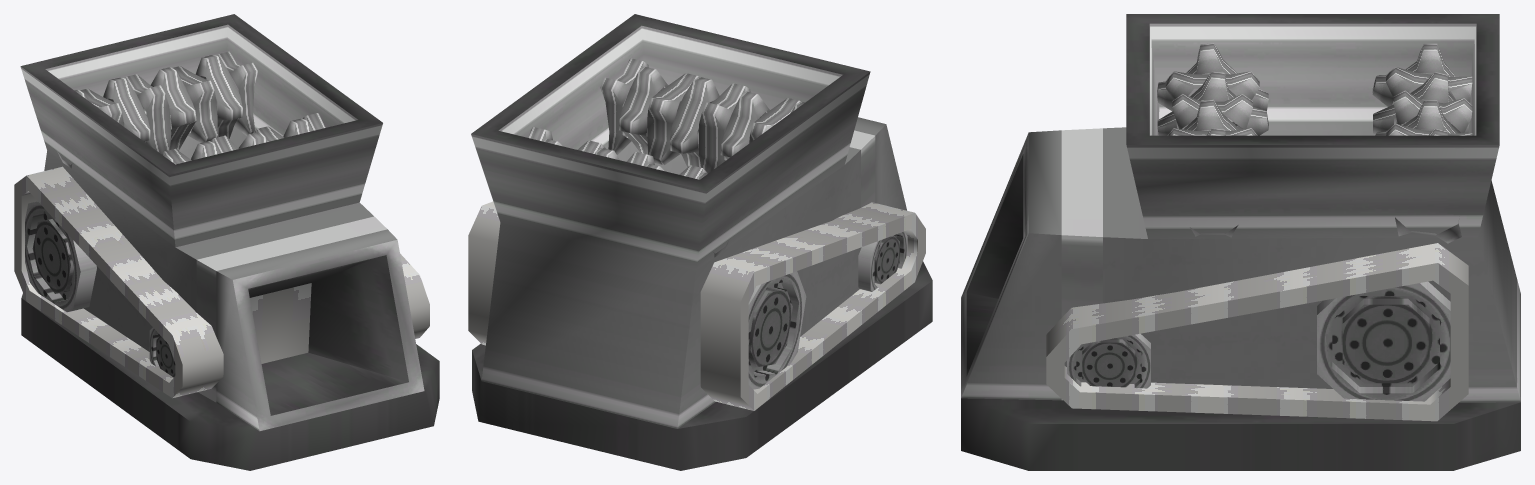
File: StoneGrinderHandHeld.fbx
3 renders of one model, left to right at view 1: azimuth 30°, elevation 25°; view 2: azimuth 150°, elevation 25°; view 3: azimuth 270°, elevation 25°, orthographic. The views are drawn at different scales.
Visible parts, largest first — view 1: StoneGrinder, GrinderBlade1, GinderWheel, GrinderBlade2, GinderWheel (1); view 2: StoneGrinder, GrinderBlade2, GinderWheel, GinderWheel (1), GrinderBlade1; view 3: StoneGrinder, GinderWheel (2), GrinderBlade2, GrinderBlade1, GinderWheel (3).
Boxes of the visible parts, x1,y1,x2,y2 form: StoneGrinder: (14, 14, 439, 470); GrinderBlade1: (57, 51, 257, 168); GinderWheel: (25, 201, 96, 312); GrinderBlade2: (162, 113, 325, 164); GinderWheel (1): (149, 327, 175, 377); StoneGrinder: (468, 14, 932, 470); GrinderBlade2: (600, 58, 804, 173); GinderWheel: (748, 271, 806, 389); GinderWheel (1): (858, 231, 907, 291); GrinderBlade1: (528, 127, 728, 257); StoneGrinder: (961, 14, 1520, 470); GinderWheel (2): (1317, 281, 1450, 401); GrinderBlade2: (1157, 43, 1268, 237); GrinderBlade1: (1372, 43, 1472, 243); GinderWheel (3): (1067, 333, 1150, 388).
Size of the model in its own units: 0.5456 by 0.5241 by 0.8434.
Materials: 2 (2 with a texture image).
